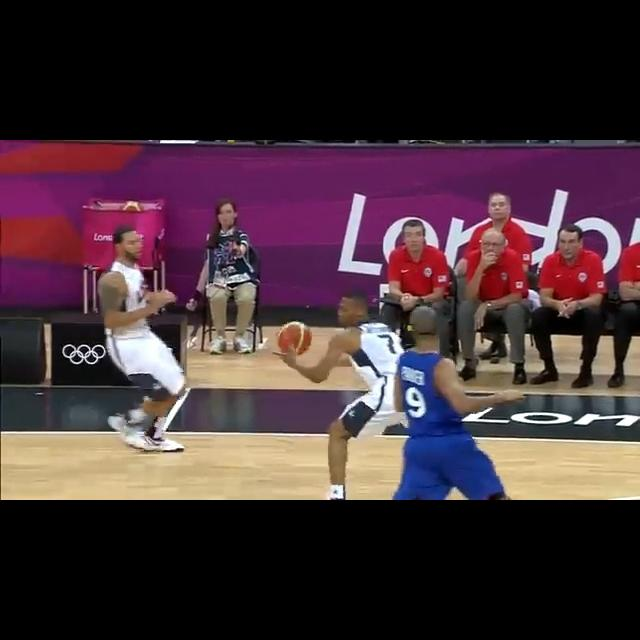basketball: (276, 322, 312, 355)
